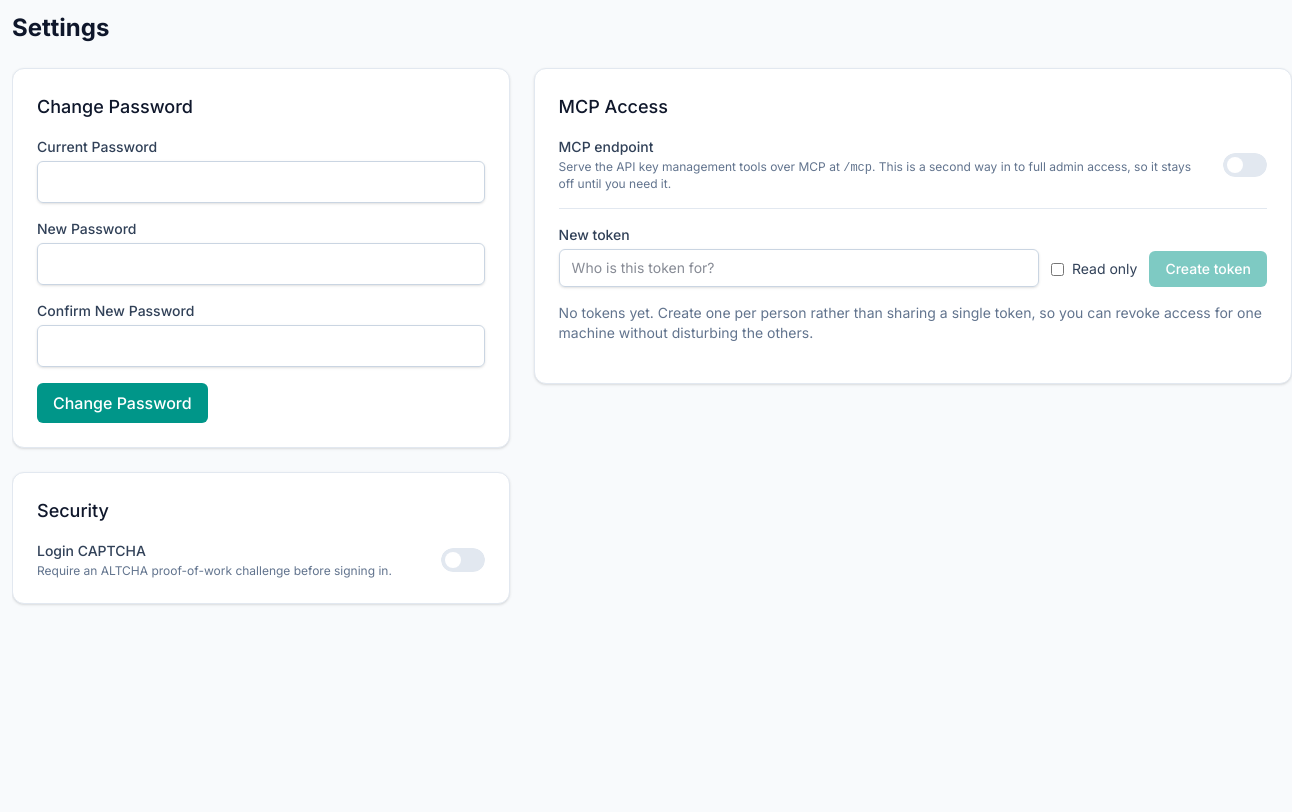
Scenario: SettingsView › validates password mismatch
Type "oldpass" into the password field with id "currentPassword" at x=261, y=182, box [37,161,485,203]
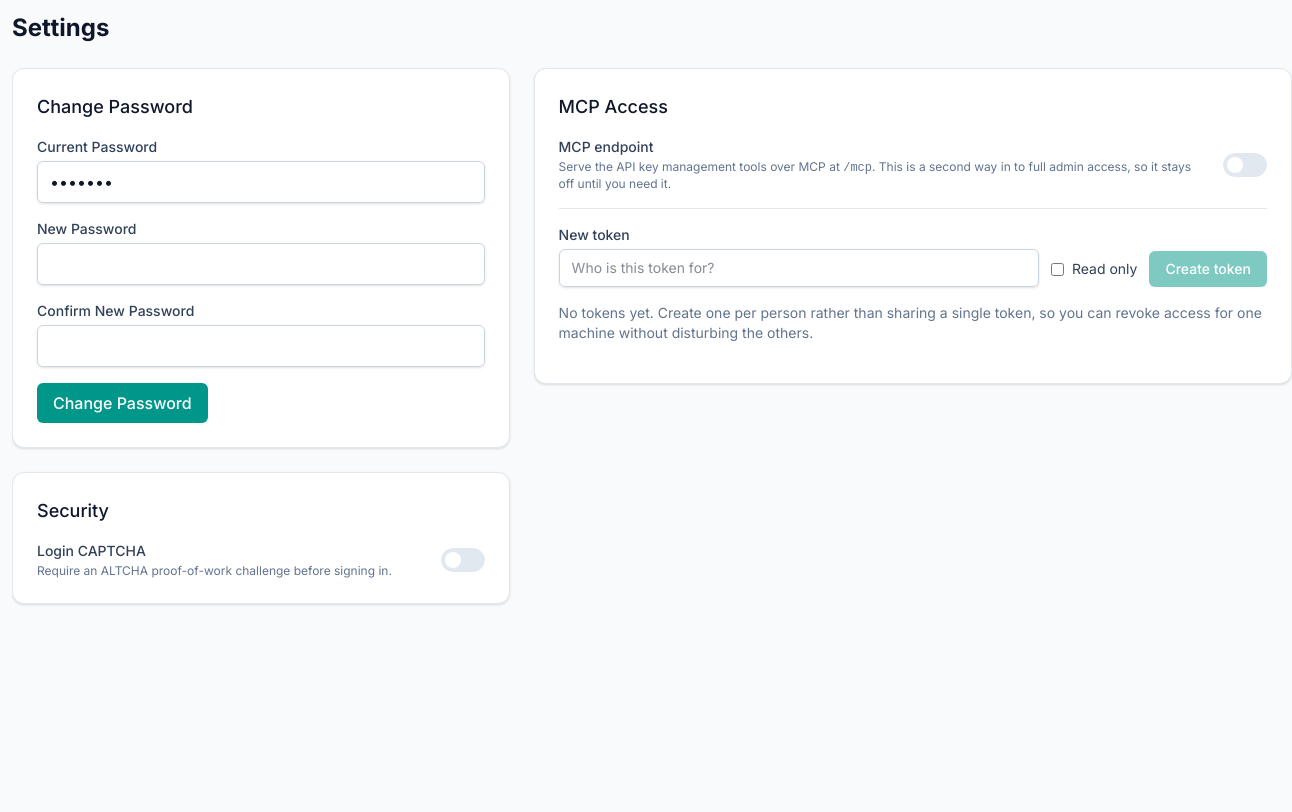
Type "newpass12" into the password field with id "newPassword" at x=261, y=264, box [37,243,485,285]
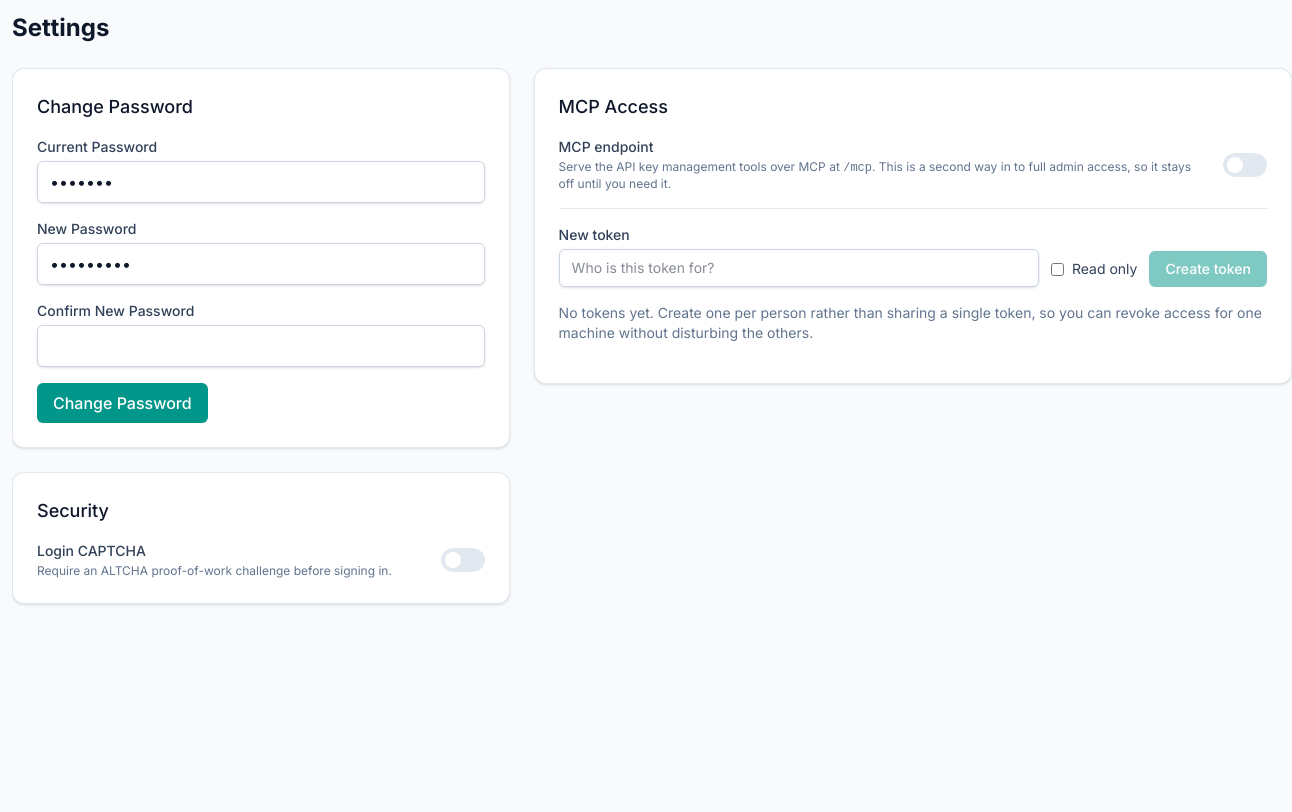
Type "different" into the password field with id "confirmPassword" at x=261, y=346, box [37,325,485,367]
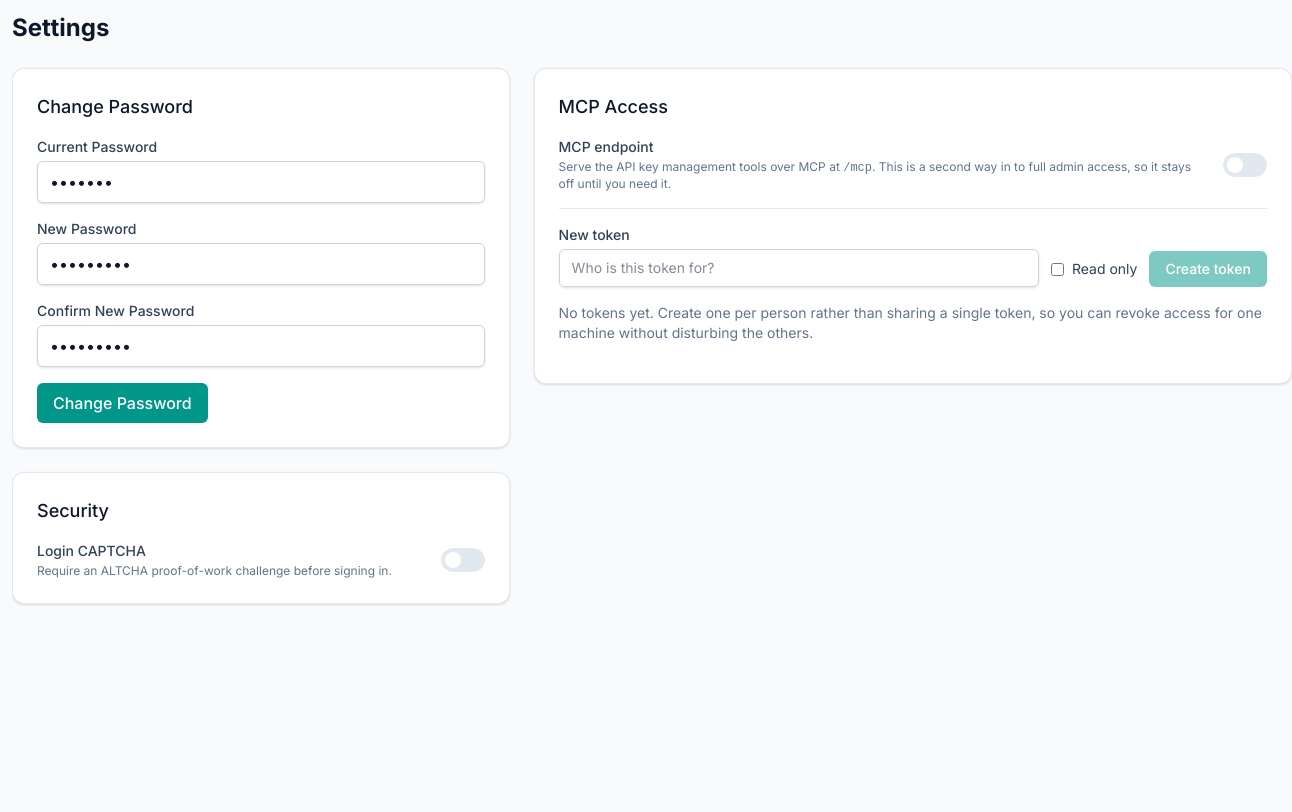
Submit the form that starts with "Change Password", box [12,68,510,448]
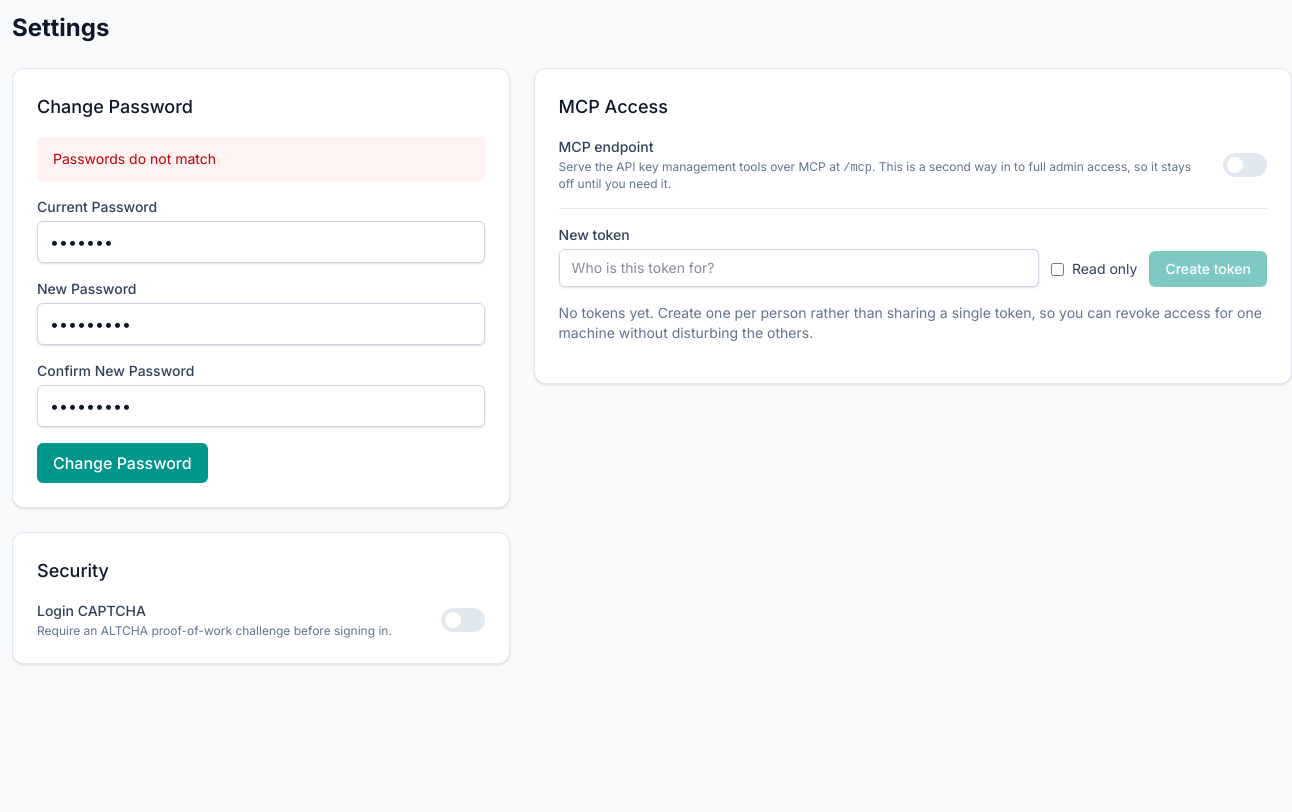
Check: the text "Passwords do not match" is shown, box [37,137,485,181]
